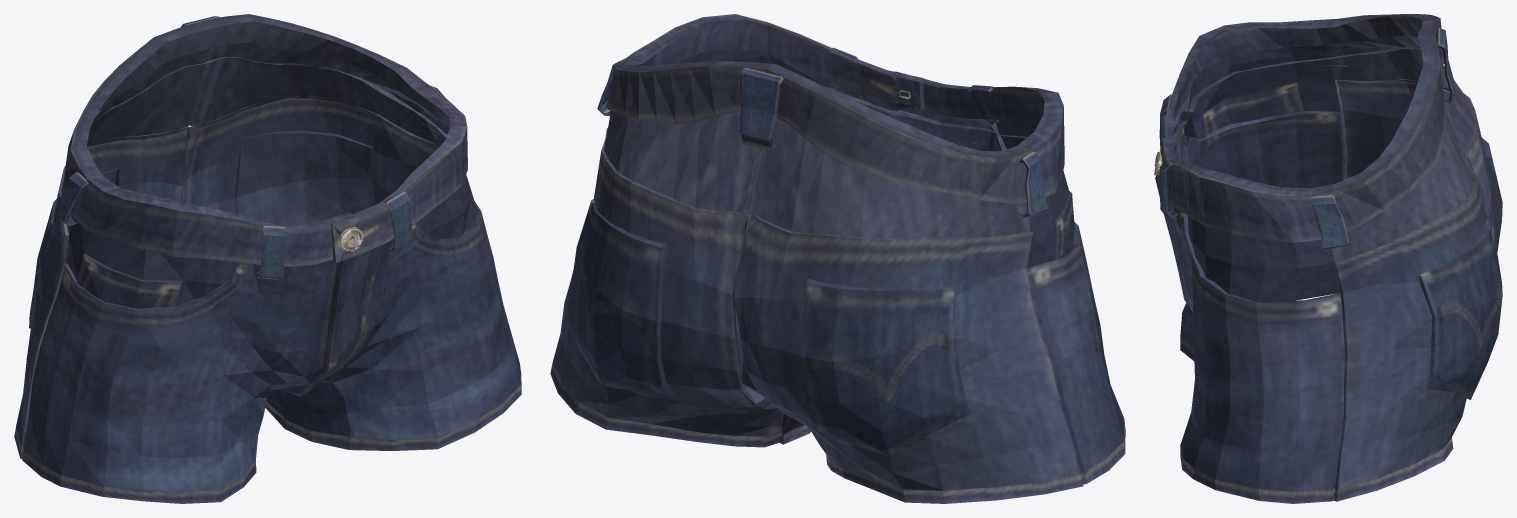
Rendered from mhw_punkduck_female_short_jeans.glb.
3 renders of one model, left to right at view 1: azimuth 30°, elevation 25°; view 2: azimuth 150°, elevation 25°; view 3: azimuth 270°, elevation 25°, orthographic. The views are drawn at different scales.
Visible parts, largest first — view 1: mhw_punkduck_female_short_jeans; view 2: mhw_punkduck_female_short_jeans; view 3: mhw_punkduck_female_short_jeans.
Part boxes in pixels (box(x1,y1,x2,y2)): mhw_punkduck_female_short_jeans: box(14, 14, 521, 503); mhw_punkduck_female_short_jeans: box(550, 14, 1125, 503); mhw_punkduck_female_short_jeans: box(1154, 14, 1502, 503).
Bounding box in the file's own units: 0.4114 × 0.3131 × 0.2623.
1 material, 1 textured.
